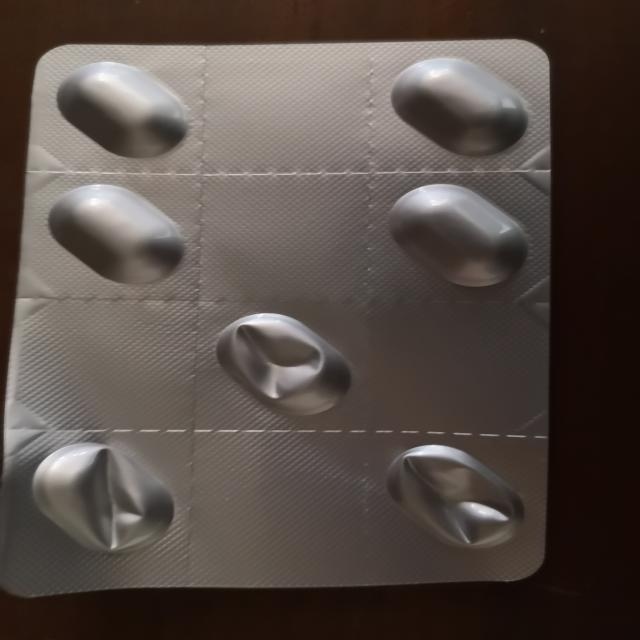Empty: (372, 434, 536, 560), (15, 437, 181, 558), (200, 310, 361, 422)
Pill: (374, 176, 538, 295), (378, 50, 534, 163), (43, 179, 196, 292), (43, 55, 198, 161)
